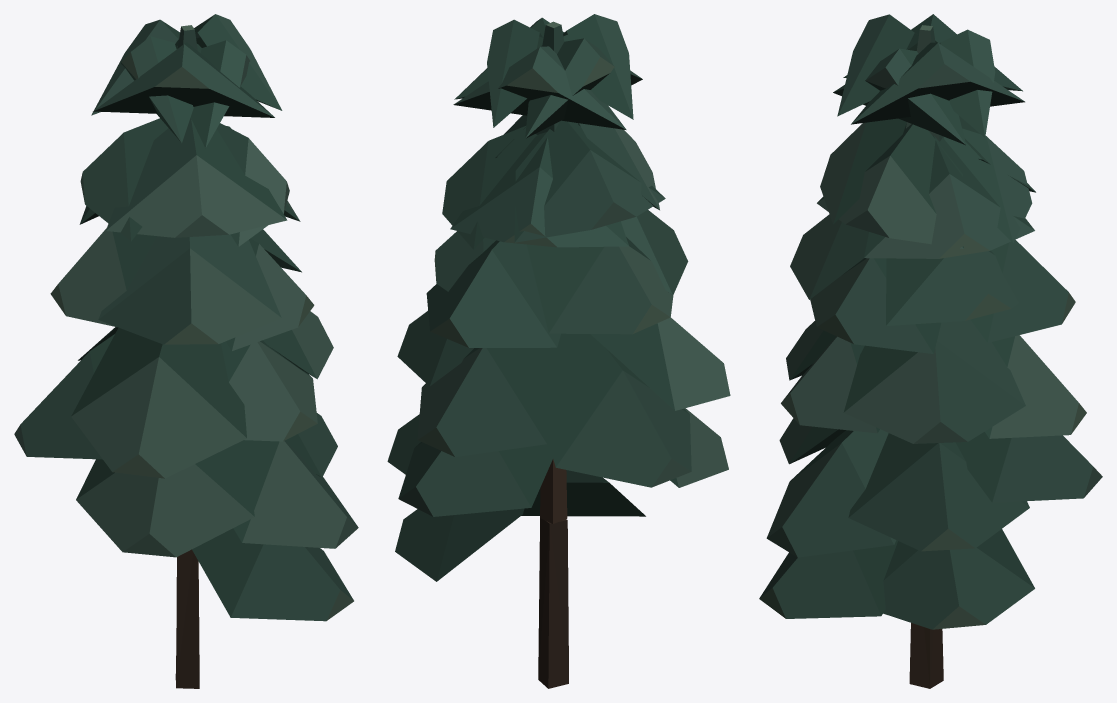
Rendered from sapling-pine.glb.
The picture shows the model from 3 angles, left to right: view 1: azimuth 30°, elevation 25°; view 2: azimuth 150°, elevation 25°; view 3: azimuth 270°, elevation 25°; orthographic projection.
Parts seen in each view (by area): view 1: sapling-pine; view 2: sapling-pine; view 3: sapling-pine.
Part boxes in pixels (<box>): sapling-pine: <box>14,14,358,688</box>; sapling-pine: <box>387,14,730,688</box>; sapling-pine: <box>759,14,1102,688</box>.
Size of the model in its own units: 0.9718 by 2.06 by 0.9762.
